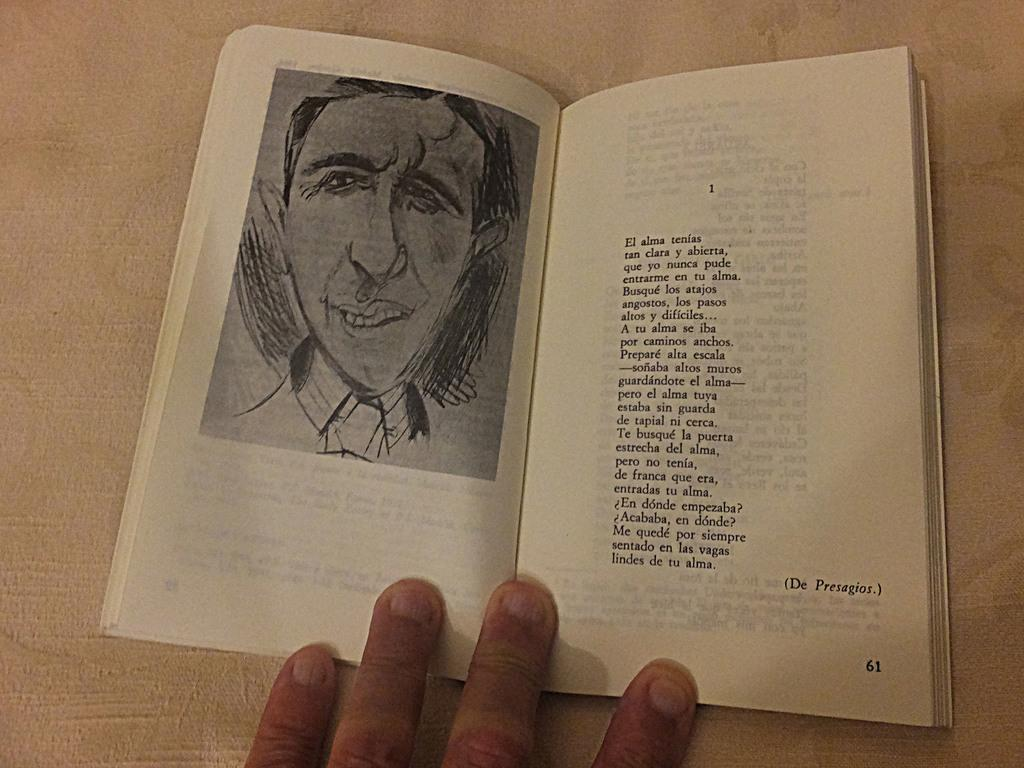Book: (68, 20, 954, 732)
